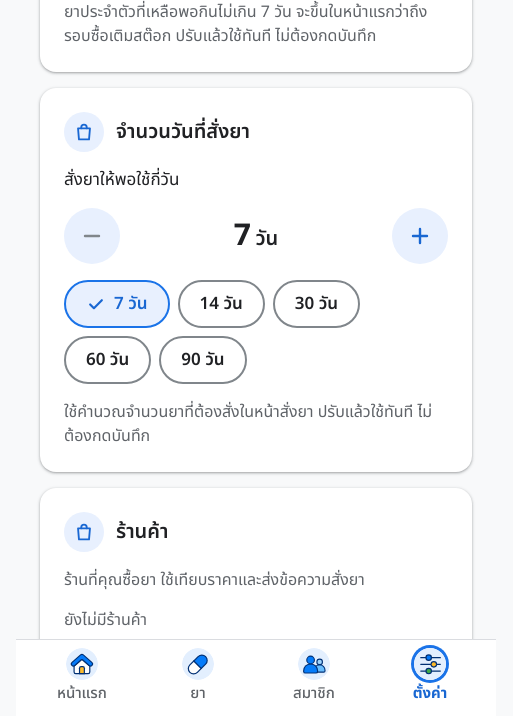
Test: order days (settings.orderDays, 7-90) › the − button stops at 7 and the + button at 90: the number cannot be pushed outside
This screenshot has width=513, height=716.
(page scrolled)
Expected: the button named "ลด 1 วัน · จำนวนวันที่สั่งยา" is disabled, [64,208,120,264]
Click the radio button labelled "90 วัน". click: (203, 360)
box: [159,336,247,384]
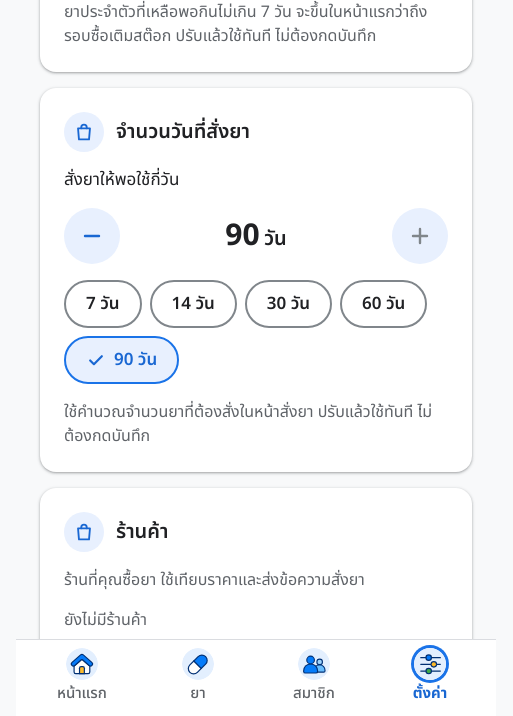
Expected: the button named "เพิ่ม 1 วัน · จำนวนวันที่สั่งยา" is disabled, [392,208,448,264]
